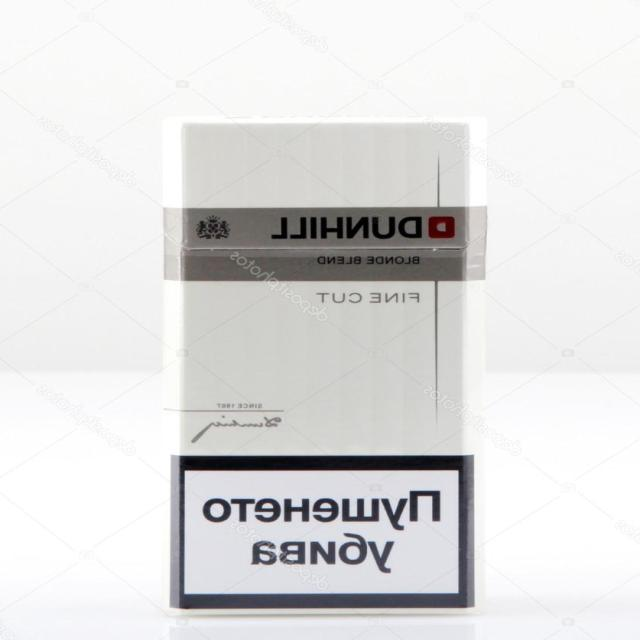dunhill: (153, 119, 498, 635)
